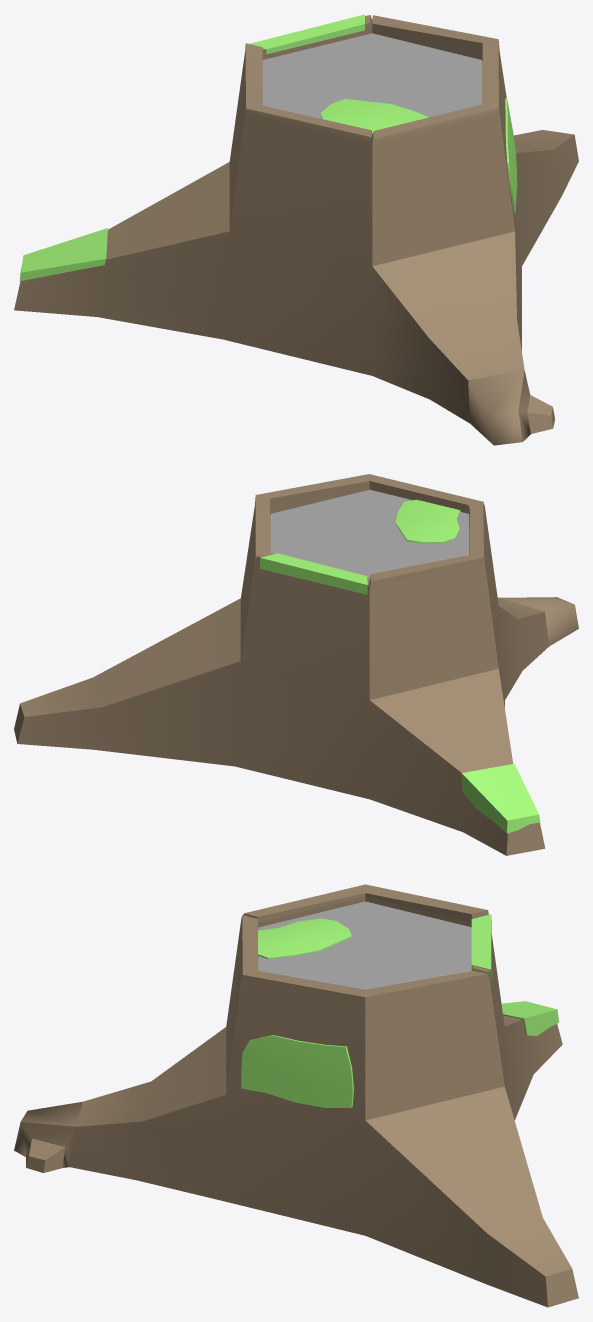
File: Tree_trunk_4.fbx
3 views of the same model, one above another, from view 1: azimuth 30°, elevation 25°; view 2: azimuth 150°, elevation 25°; view 3: azimuth 270°, elevation 25° (orthographic). The views are drawn at different scales.
Visible parts, largest first — view 1: pCylinder1, pCylinder2, pCube5; view 2: pCylinder1, pCylinder2, pCube5; view 3: pCylinder1, pCube5, pCylinder2.
Boxes of the visible parts, <box> form: pCylinder1: <box>14,15,578,445</box>; pCylinder2: <box>262,33,481,135</box>; pCube5: <box>19,14,517,281</box>; pCylinder1: <box>14,474,578,855</box>; pCylinder2: <box>270,489,468,581</box>; pCube5: <box>260,499,540,833</box>; pCylinder1: <box>14,884,578,1307</box>; pCube5: <box>241,914,559,1107</box>; pCylinder2: <box>258,901,471,989</box>.
Size of the model in its own units: 20.72 by 8 by 18.02.
